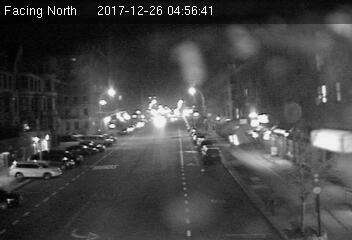car: (200, 144, 223, 161)
